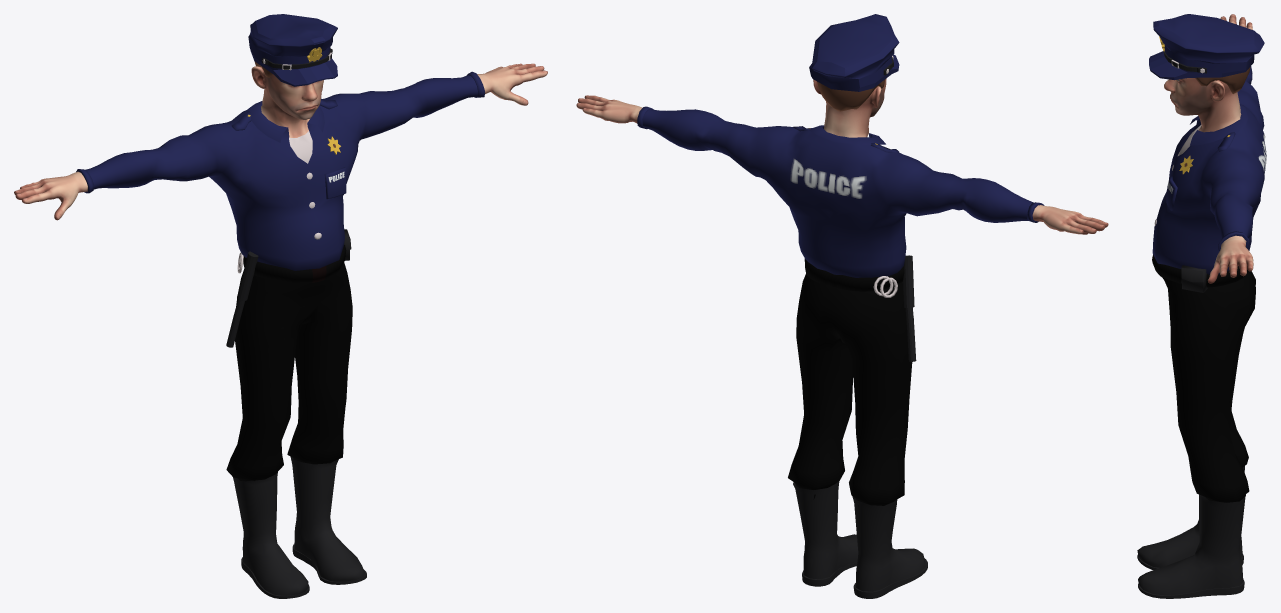
3 views of the same model, side by side, from view 1: azimuth 30°, elevation 25°; view 2: azimuth 150°, elevation 25°; view 3: azimuth 270°, elevation 25° (orthographic).
Parts seen in each view (by area): view 1: police-man.002; view 2: police-man.002; view 3: police-man.002.
Part boxes in pixels (left/top/right/bottom): police-man.002: left=14, top=14, right=547, bottom=598; police-man.002: left=576, top=14, right=1108, bottom=598; police-man.002: left=1137, top=14, right=1266, bottom=598.
Size of the model in its own units: 1.78 by 1.76 by 0.3736.
1 material, 1 textured.
